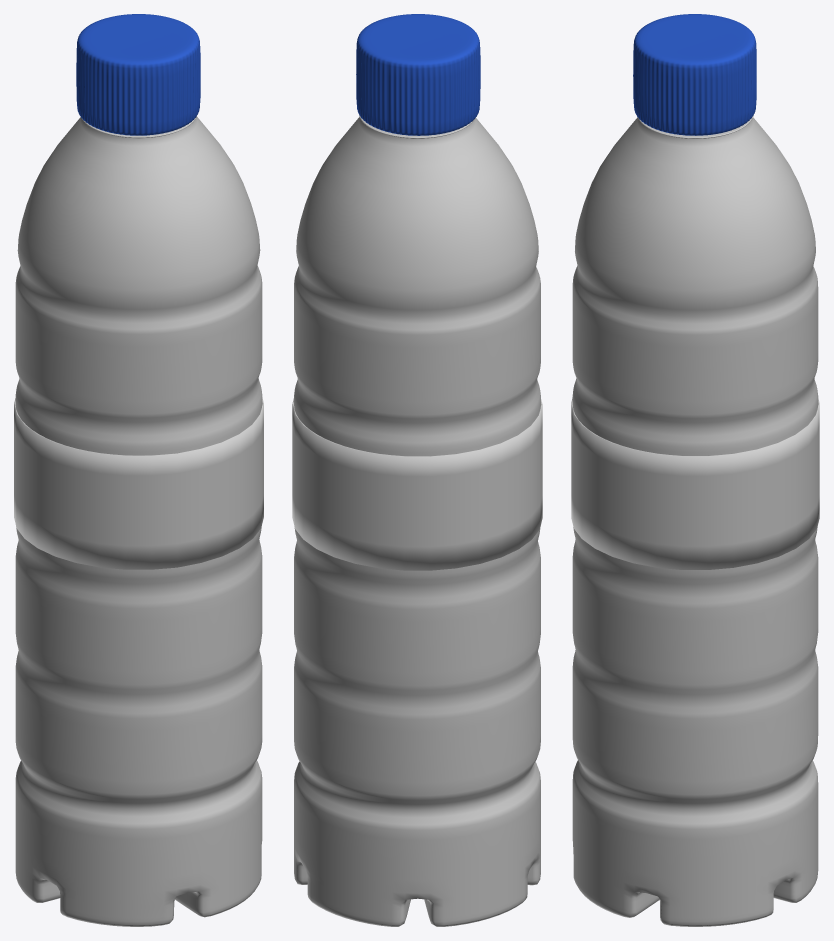
The model's file is modelo_1.obj.
The picture shows the model from 3 angles, left to right: view 1: azimuth 30°, elevation 25°; view 2: azimuth 150°, elevation 25°; view 3: azimuth 270°, elevation 25°; orthographic projection.
Parts seen in each view (by area): view 1: Plastic_bottles, LABEL, TUTUP; view 2: Plastic_bottles, LABEL, TUTUP; view 3: Plastic_bottles, LABEL, TUTUP.
Part boxes in pixels (box(x1,y1,x2,y2)): Plastic_bottles: box(15, 116, 262, 926); LABEL: box(14, 397, 263, 569); TUTUP: box(76, 14, 200, 135); Plastic_bottles: box(294, 115, 540, 926); LABEL: box(292, 398, 542, 570); TUTUP: box(356, 14, 480, 135); Plastic_bottles: box(572, 116, 818, 926); LABEL: box(571, 397, 819, 569); TUTUP: box(633, 14, 756, 135).
Bounding box in the file's own units: 0.0603 × 0.2245 × 0.0603.
